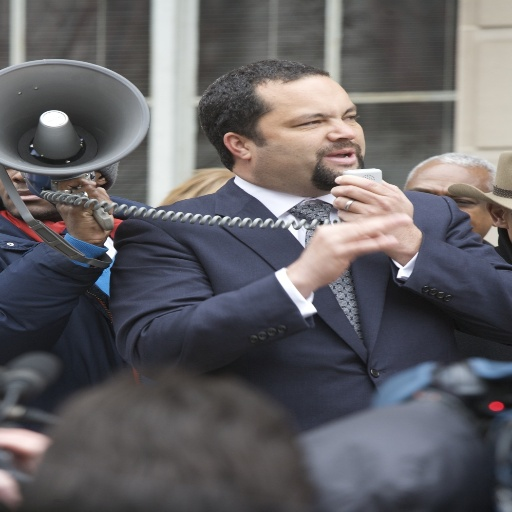hand: (286, 211, 410, 292), (52, 176, 114, 243), (0, 427, 48, 509)
